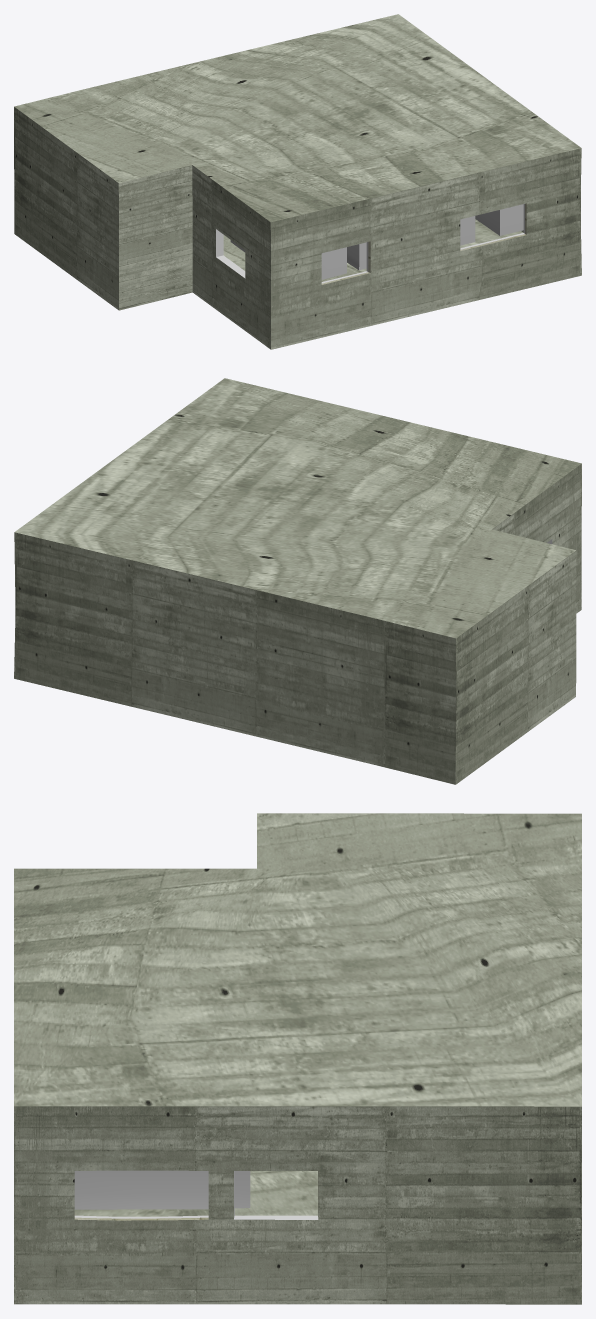
The model's file is Corridor_01_00.fbx.
3 views of the same model, one above another, from view 1: azimuth 30°, elevation 25°; view 2: azimuth 150°, elevation 25°; view 3: azimuth 270°, elevation 25° (orthographic). The views are drawn at different scales.
Visible parts, largest first — view 1: Corridor_00_00.001, Corridor_00_00.026, Corridor_00_00.016, Corridor_01_00; view 2: Corridor_00_00.001; view 3: Corridor_00_00.001, Corridor_00_00.016, Corridor_01_00.
Boxes of the visible parts, <box> form: Corridor_00_00.001: <box>14,14,581,349</box>; Corridor_00_00.026: <box>230,216,475,279</box>; Corridor_00_00.016: <box>475,204,523,235</box>; Corridor_01_00: <box>216,204,524,283</box>; Corridor_00_00.001: <box>14,378,581,784</box>; Corridor_00_00.001: <box>14,813,581,1304</box>; Corridor_00_00.016: <box>74,1170,250,1209</box>; Corridor_01_00: <box>74,1171,318,1219</box>.
Size of the model in its own units: 4802 by 1541 by 3959.
